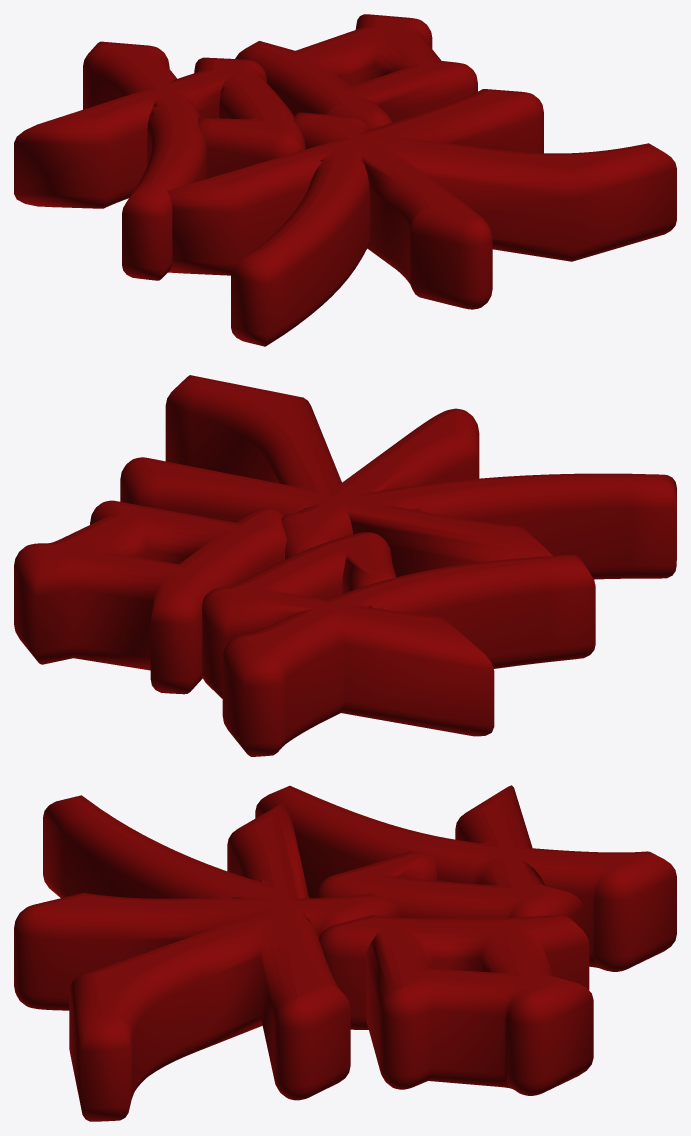
Rendered from jia.fbx.
3 views of the same model, one above another, from view 1: azimuth 30°, elevation 25°; view 2: azimuth 150°, elevation 25°; view 3: azimuth 270°, elevation 25° (orthographic). The views are drawn at different scales.
Parts seen in each view (by area): view 1: Text; view 2: Text; view 3: Text.
Part boxes in pixels (bbox=[...]): Text: bbox=[14, 14, 676, 346]; Text: bbox=[14, 375, 676, 756]; Text: bbox=[14, 785, 676, 1121].
Bounding box in the file's own units: 77.25 × 14 × 83.65.
